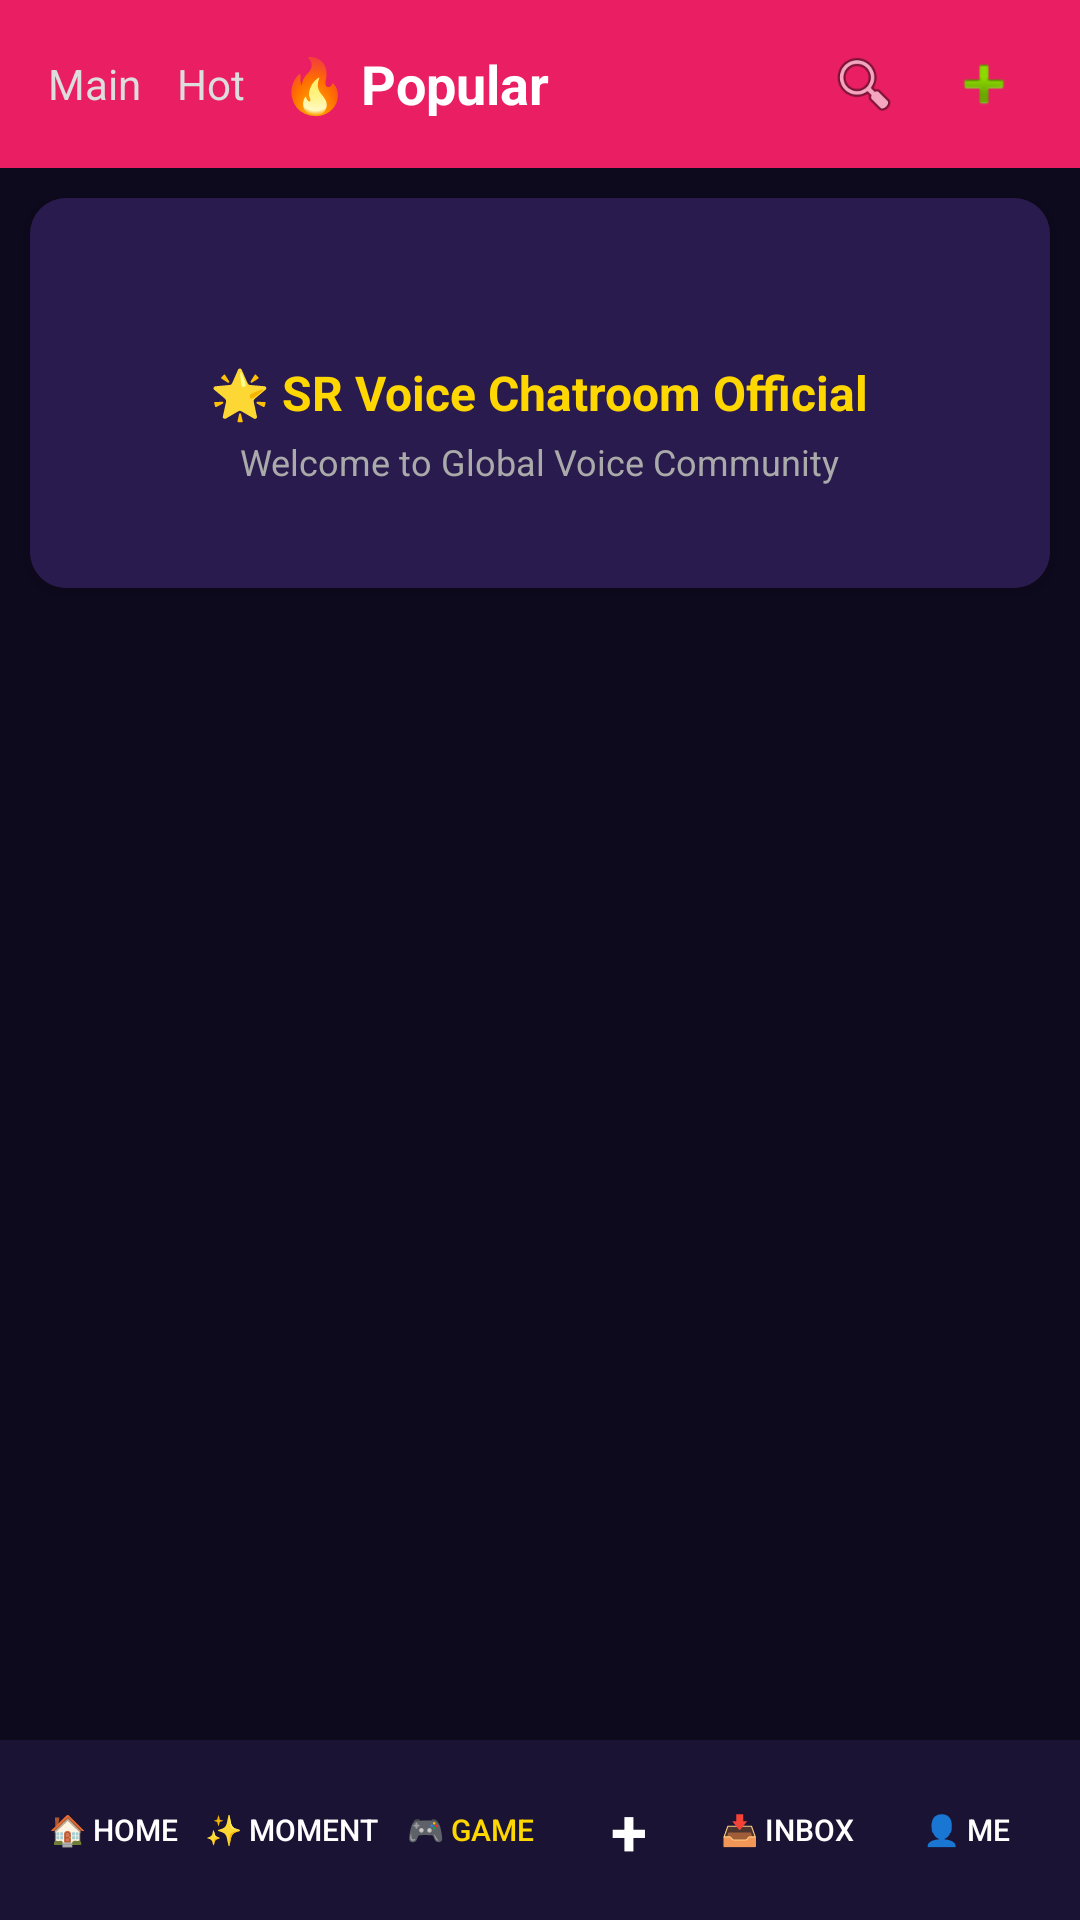

Named icons in this screenshot (1080x1920) and their bounding boxes, (left=x1, top=y1, right=x2, bottom=y2):
Create Room: (left=964, top=64, right=1004, bottom=104)
Search Room: (left=837, top=58, right=891, bottom=111)
